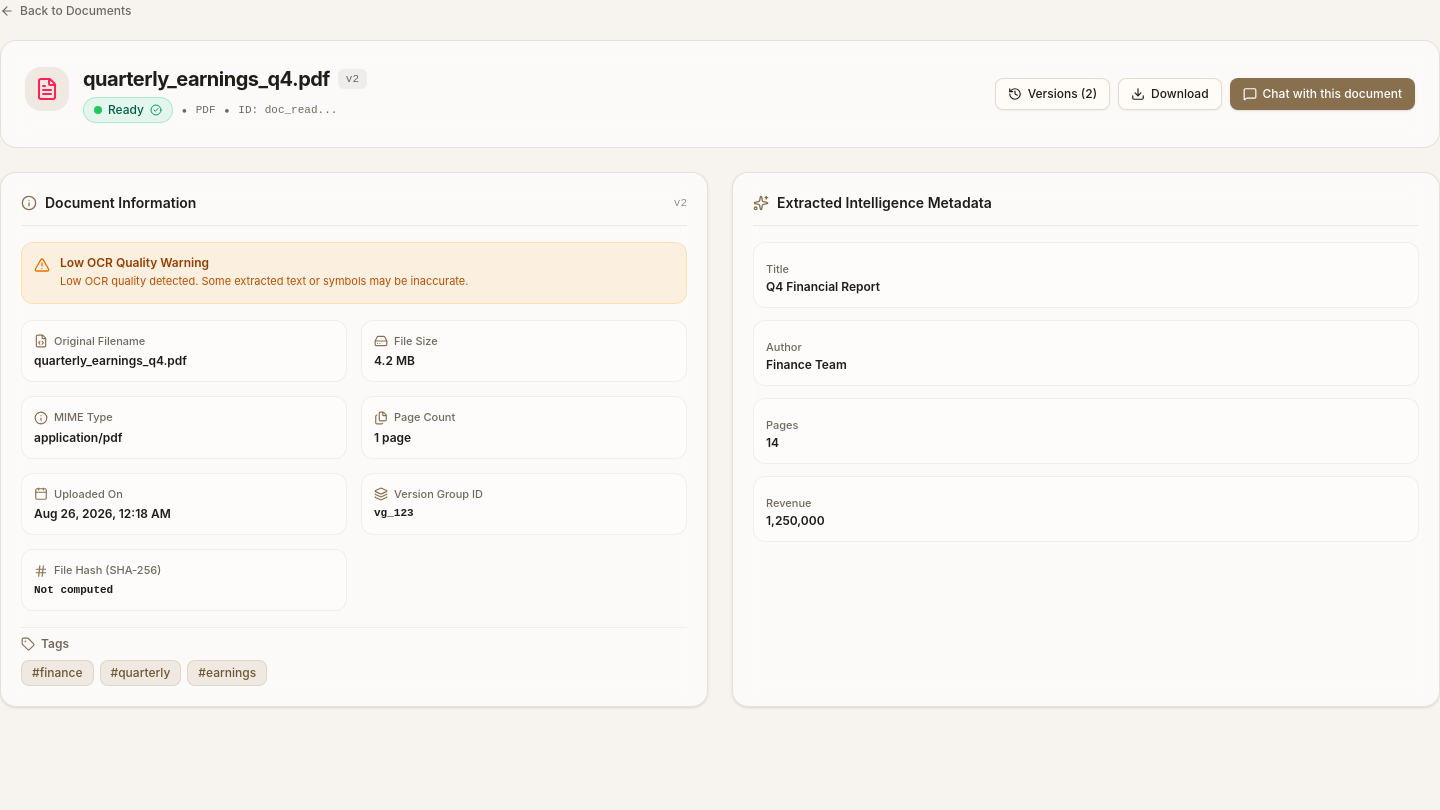
Test case: Document Detail & Versions Page › opens versions modal and displays version history
Click the button "Versions (2)".
click(1052, 94)  # box [995,78,1110,110]
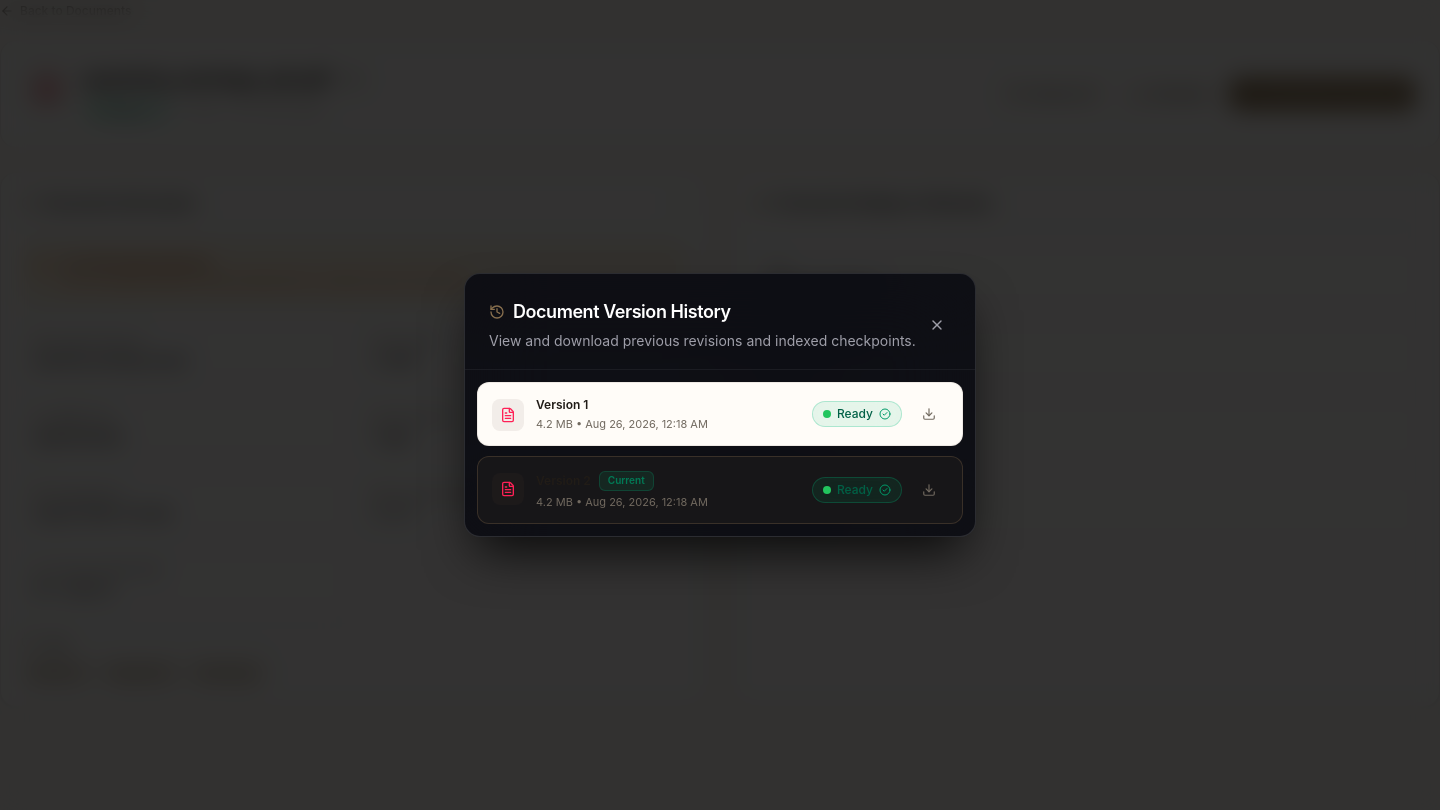
Expected: the heading "Document Version History" is shown, [489,301,731,322]
Expected: the text "Version 1" is shown, [536,396,588,412]
Expected: the text "Current" is shown, [599,471,654,490]
